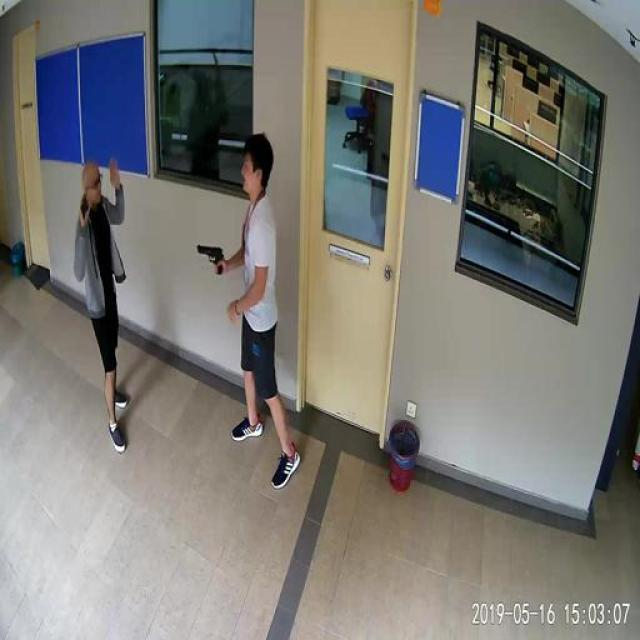Gun: (185, 233, 227, 279)
